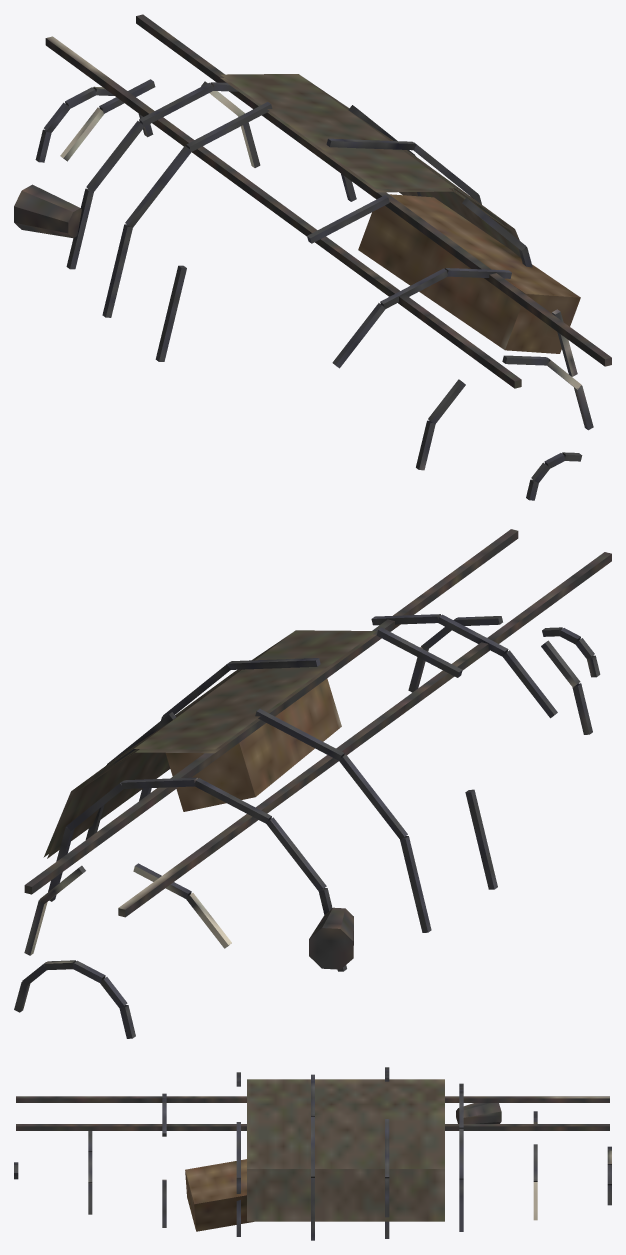
Rendered from SM_Wreck_Airship.fbx.
The picture shows the model from 3 angles, top to bottom: view 1: azimuth 30°, elevation 25°; view 2: azimuth 150°, elevation 25°; view 3: azimuth 270°, elevation 25°; orthographic projection. The views are drawn at different scales.
Visible parts, largest first — view 1: SM_Wreck_Airship; view 2: SM_Wreck_Airship; view 3: SM_Wreck_Airship.
Boxes of the visible parts, x1=… form: SM_Wreck_Airship: x1=14, y1=14, x2=611, y2=500; SM_Wreck_Airship: x1=14, y1=529, x2=611, y2=1038; SM_Wreck_Airship: x1=14, y1=1067, x2=611, y2=1240.
Bounding box in the file's own units: 1534 × 765 × 3625.
Materials: 1 (1 with a texture image).
